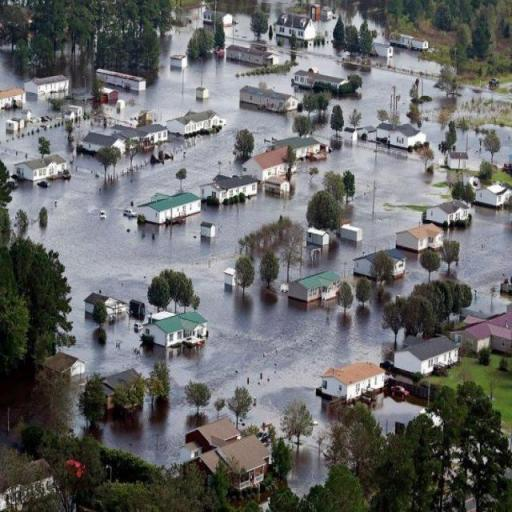flood: (0, 30, 452, 493), (426, 87, 512, 165), (450, 206, 512, 314), (333, 67, 417, 125), (26, 371, 86, 432), (373, 398, 424, 435), (298, 54, 358, 76), (392, 48, 441, 74), (423, 78, 453, 115), (0, 50, 24, 89), (225, 14, 255, 43), (264, 0, 292, 24), (217, 0, 258, 15), (302, 43, 349, 56), (368, 20, 388, 42), (189, 4, 204, 28), (314, 19, 336, 34), (351, 13, 364, 28), (259, 35, 276, 46), (275, 50, 290, 62)
house: (193, 416, 267, 488), (394, 335, 464, 383), (320, 360, 384, 408), (144, 309, 210, 355), (131, 191, 202, 231), (6, 456, 52, 512), (462, 312, 509, 362), (204, 170, 262, 208), (287, 271, 342, 311), (245, 148, 289, 196), (12, 154, 70, 190), (352, 246, 408, 280), (102, 368, 146, 408), (240, 84, 294, 116), (226, 39, 286, 67), (169, 110, 228, 138), (22, 72, 71, 104), (398, 224, 446, 256), (94, 67, 151, 93), (112, 122, 167, 148), (45, 351, 88, 384), (431, 199, 475, 231), (374, 122, 422, 148), (84, 291, 118, 326), (473, 180, 512, 210), (80, 132, 126, 156), (295, 70, 342, 93), (276, 13, 316, 40), (277, 136, 321, 158), (390, 30, 429, 52), (2, 86, 24, 114), (202, 10, 234, 24), (307, 229, 329, 245)
